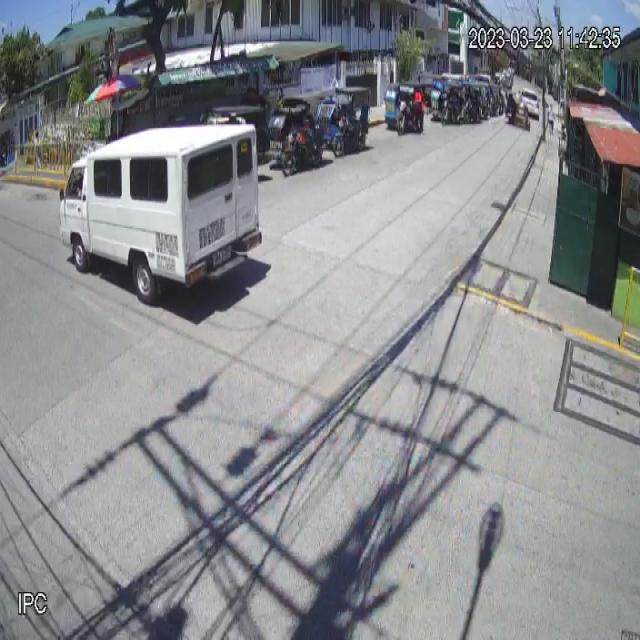Van: (58, 122, 263, 304)
